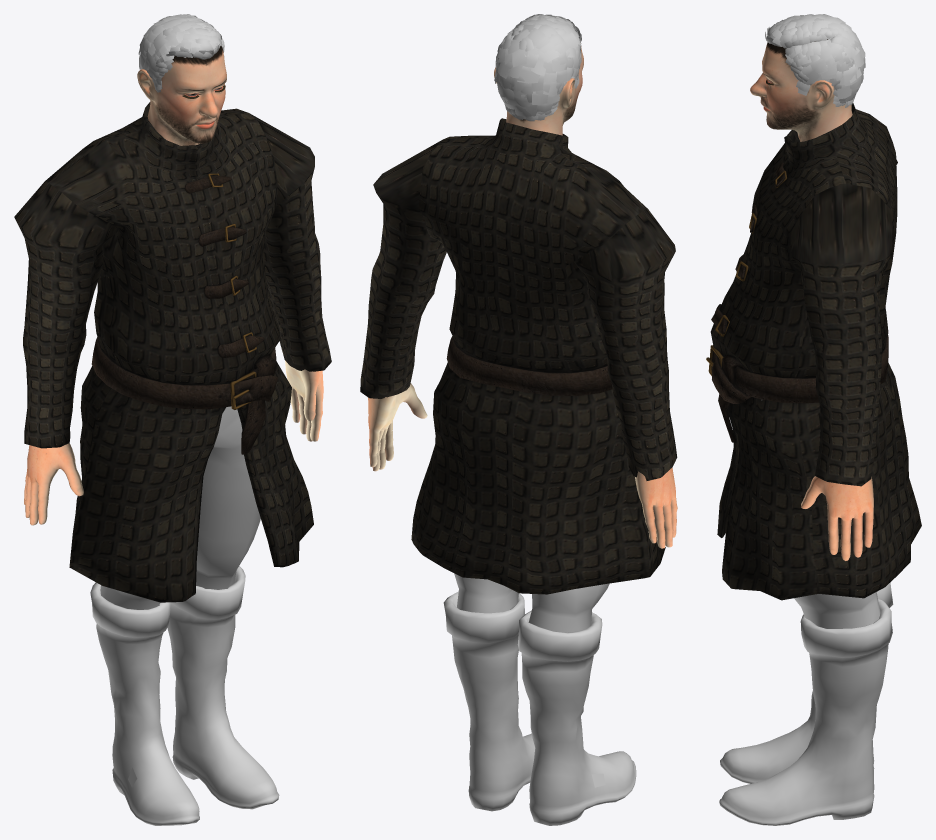
The model's file is RoyalMan_03.fbx.
3 renders of one model, left to right at view 1: azimuth 30°, elevation 25°; view 2: azimuth 150°, elevation 25°; view 3: azimuth 270°, elevation 25°, orthographic.
Parts seen in each view (by area): view 1: RoyalMan_03:Tops, RoyalMan_03:Shoes, RoyalMan_03:Body, RoyalMan_03:Bottoms, RoyalMan_03:Hair; view 2: RoyalMan_03:Tops, RoyalMan_03:Shoes, RoyalMan_03:Hair, RoyalMan_03:Body, RoyalMan_03:Bottoms; view 3: RoyalMan_03:Tops, RoyalMan_03:Shoes, RoyalMan_03:Body, RoyalMan_03:Hair, RoyalMan_03:Bottoms.
Part boxes in pixels (x1,y1,x2,y2): RoyalMan_03:Tops: (14,102,331,602); RoyalMan_03:Shoes: (90,566,279,825); RoyalMan_03:Body: (24,46,323,525); RoyalMan_03:Bottoms: (100,406,260,609); RoyalMan_03:Hair: (138,14,224,92); RoyalMan_03:Tops: (360,118,677,594); RoyalMan_03:Shoes: (443,591,636,825); RoyalMan_03:Hair: (494,14,581,121); RoyalMan_03:Body: (368,46,677,548); RoyalMan_03:Bottoms: (454,573,609,632); RoyalMan_03:Tops: (706,103,921,600); RoyalMan_03:Shoes: (719,582,893,825); RoyalMan_03:Body: (750,39,873,560); RoyalMan_03:Hair: (765,14,865,107); RoyalMan_03:Bottoms: (761,400,880,628).
Size of the model in its own units: 74.37 by 181 by 45.56.
